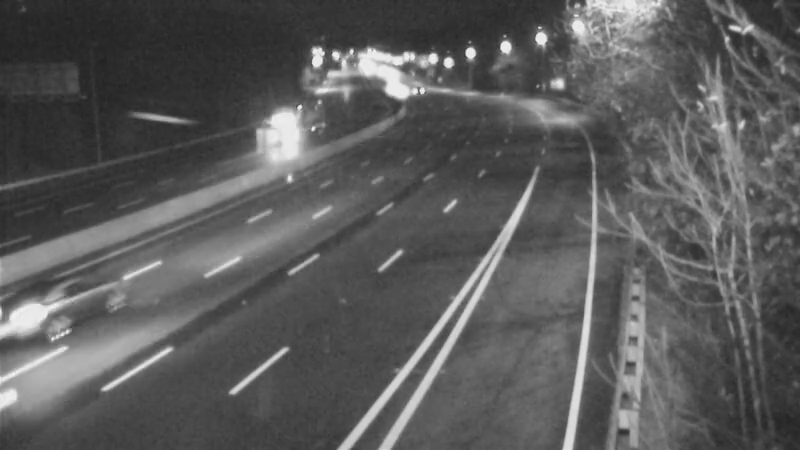vehicle: (39, 259, 119, 339), (367, 58, 417, 108), (391, 63, 441, 113), (375, 66, 425, 116), (265, 108, 315, 158)
